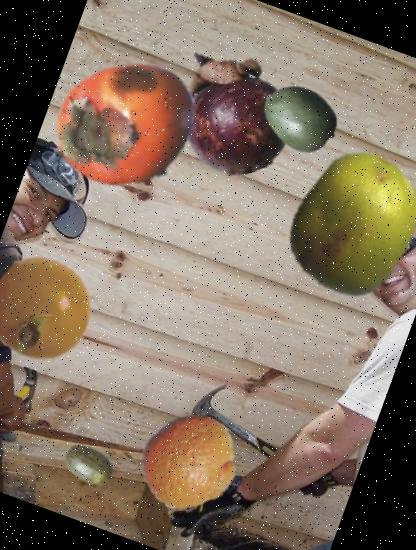Kaki: (28, 30, 219, 221)
Mandarine: (126, 399, 253, 526)
Mango: (250, 68, 350, 167)
Mangostan: (148, 25, 318, 194)
Melon: (54, 431, 122, 499)
Physalis: (0, 242, 106, 375)
Pomelo: (262, 131, 416, 318)
